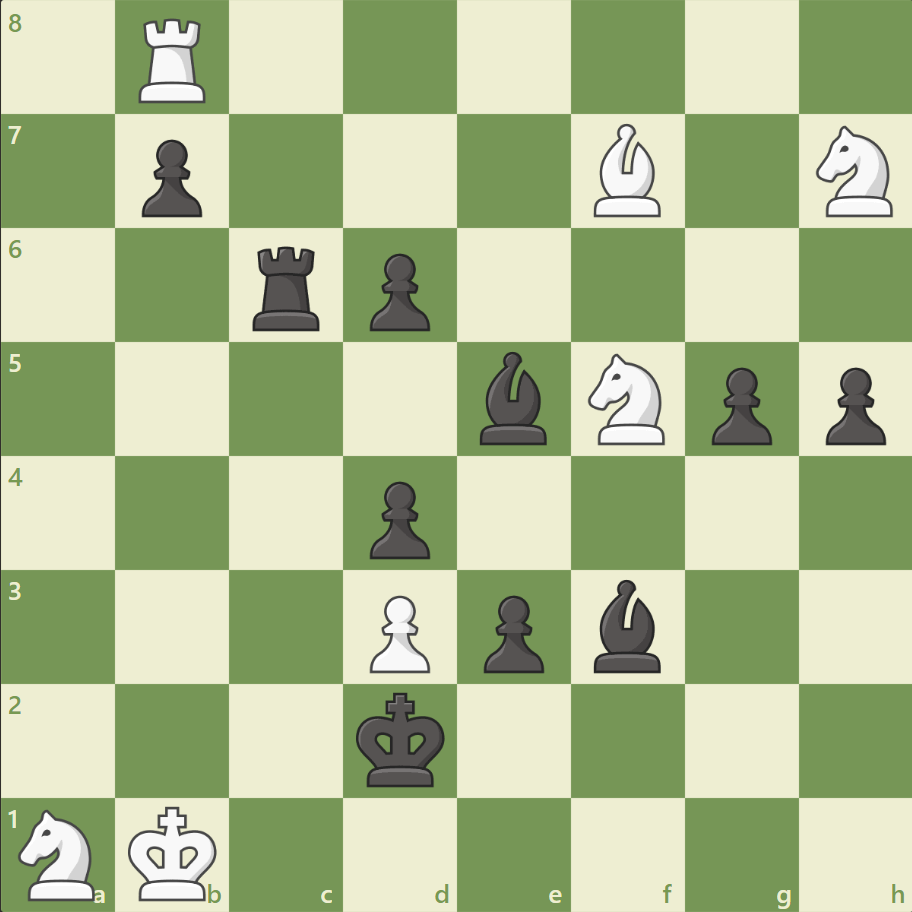B: (585, 120, 669, 222)
K: (124, 798, 224, 906)
N: (806, 121, 903, 223), (579, 348, 676, 450), (11, 802, 108, 904)
P: (361, 586, 435, 677)
R: (133, 12, 215, 109)
b: (471, 347, 555, 449), (585, 574, 669, 676)
k: (351, 685, 451, 793)
p: (133, 132, 208, 223), (701, 359, 776, 450), (474, 586, 549, 677), (361, 246, 435, 337), (815, 359, 889, 450), (361, 473, 435, 564)
r: (246, 239, 329, 336)
